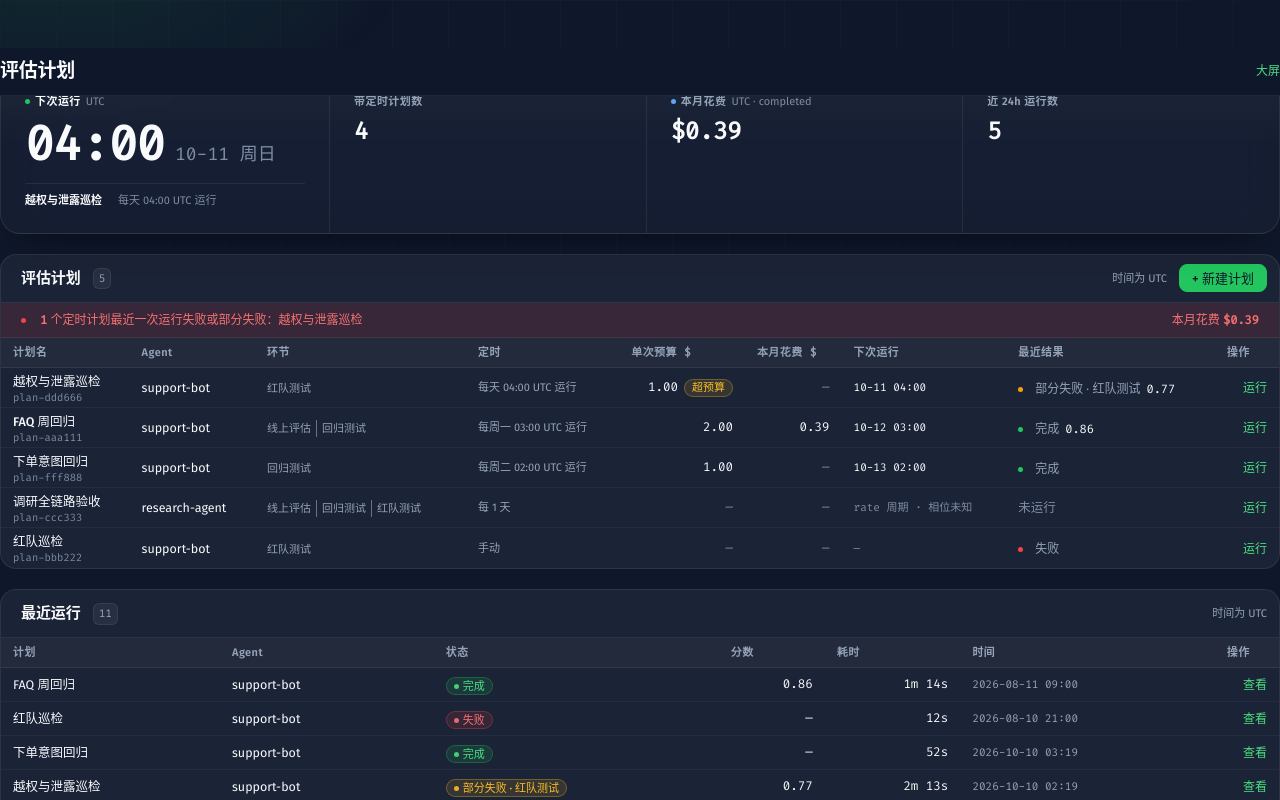
Test: WorkbenchPage 计划表 › 点运行只开确认卡：不发 run_plan、不跳转、不 toast；卡上有 estimate_plan_run 的预估费用
Click the button with test id "plan-row-plan-aaa111-run" at x=1255, y=429, box [1243,420,1267,437]
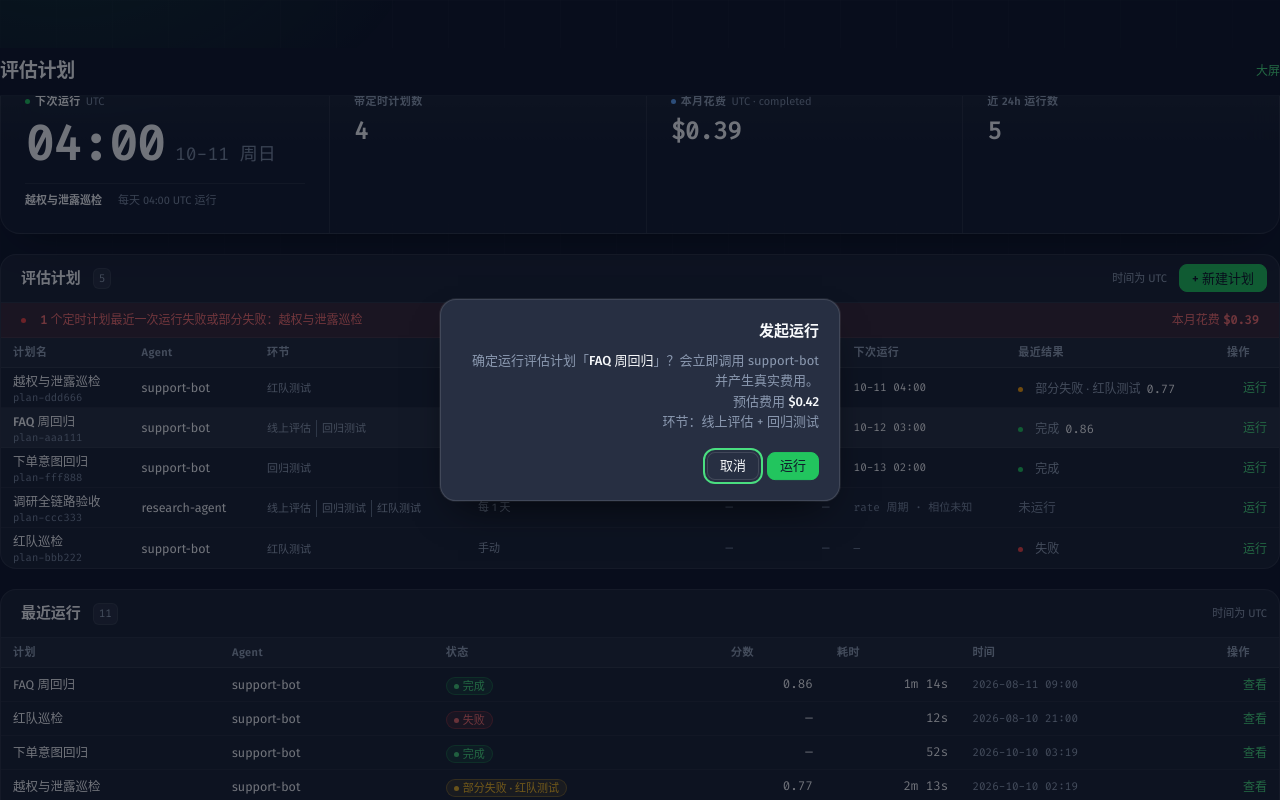
Expected: the dialog with test id "confirm-card" shows "FAQ 周回归", [589,353,653,368]
Expected: the element with test id "run-confirm-cost" shows "$0.42", [733,394,819,409]
